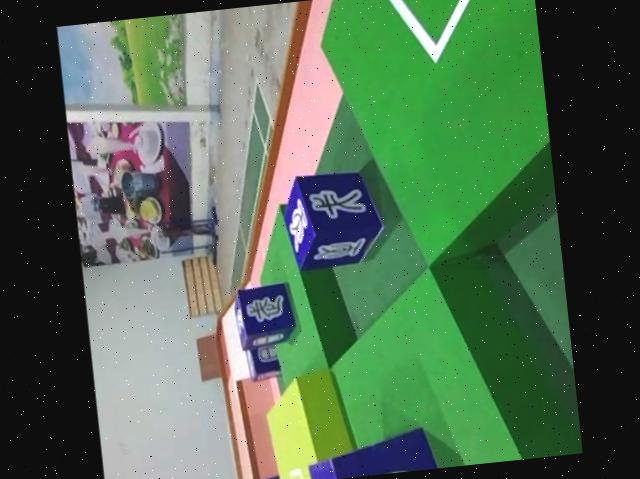R2 Fake Blue: (282, 164, 390, 271), (304, 419, 463, 479), (233, 282, 299, 352), (245, 339, 282, 380), (247, 471, 287, 479)
